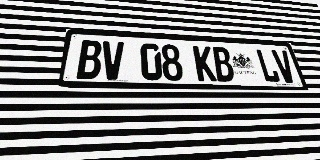0: (140, 43, 163, 80)
8: (160, 44, 184, 81)
B: (76, 40, 102, 79), (211, 47, 236, 82)
K: (193, 46, 217, 81)
L: (255, 49, 281, 83)
V: (101, 41, 124, 80), (271, 50, 298, 83)
